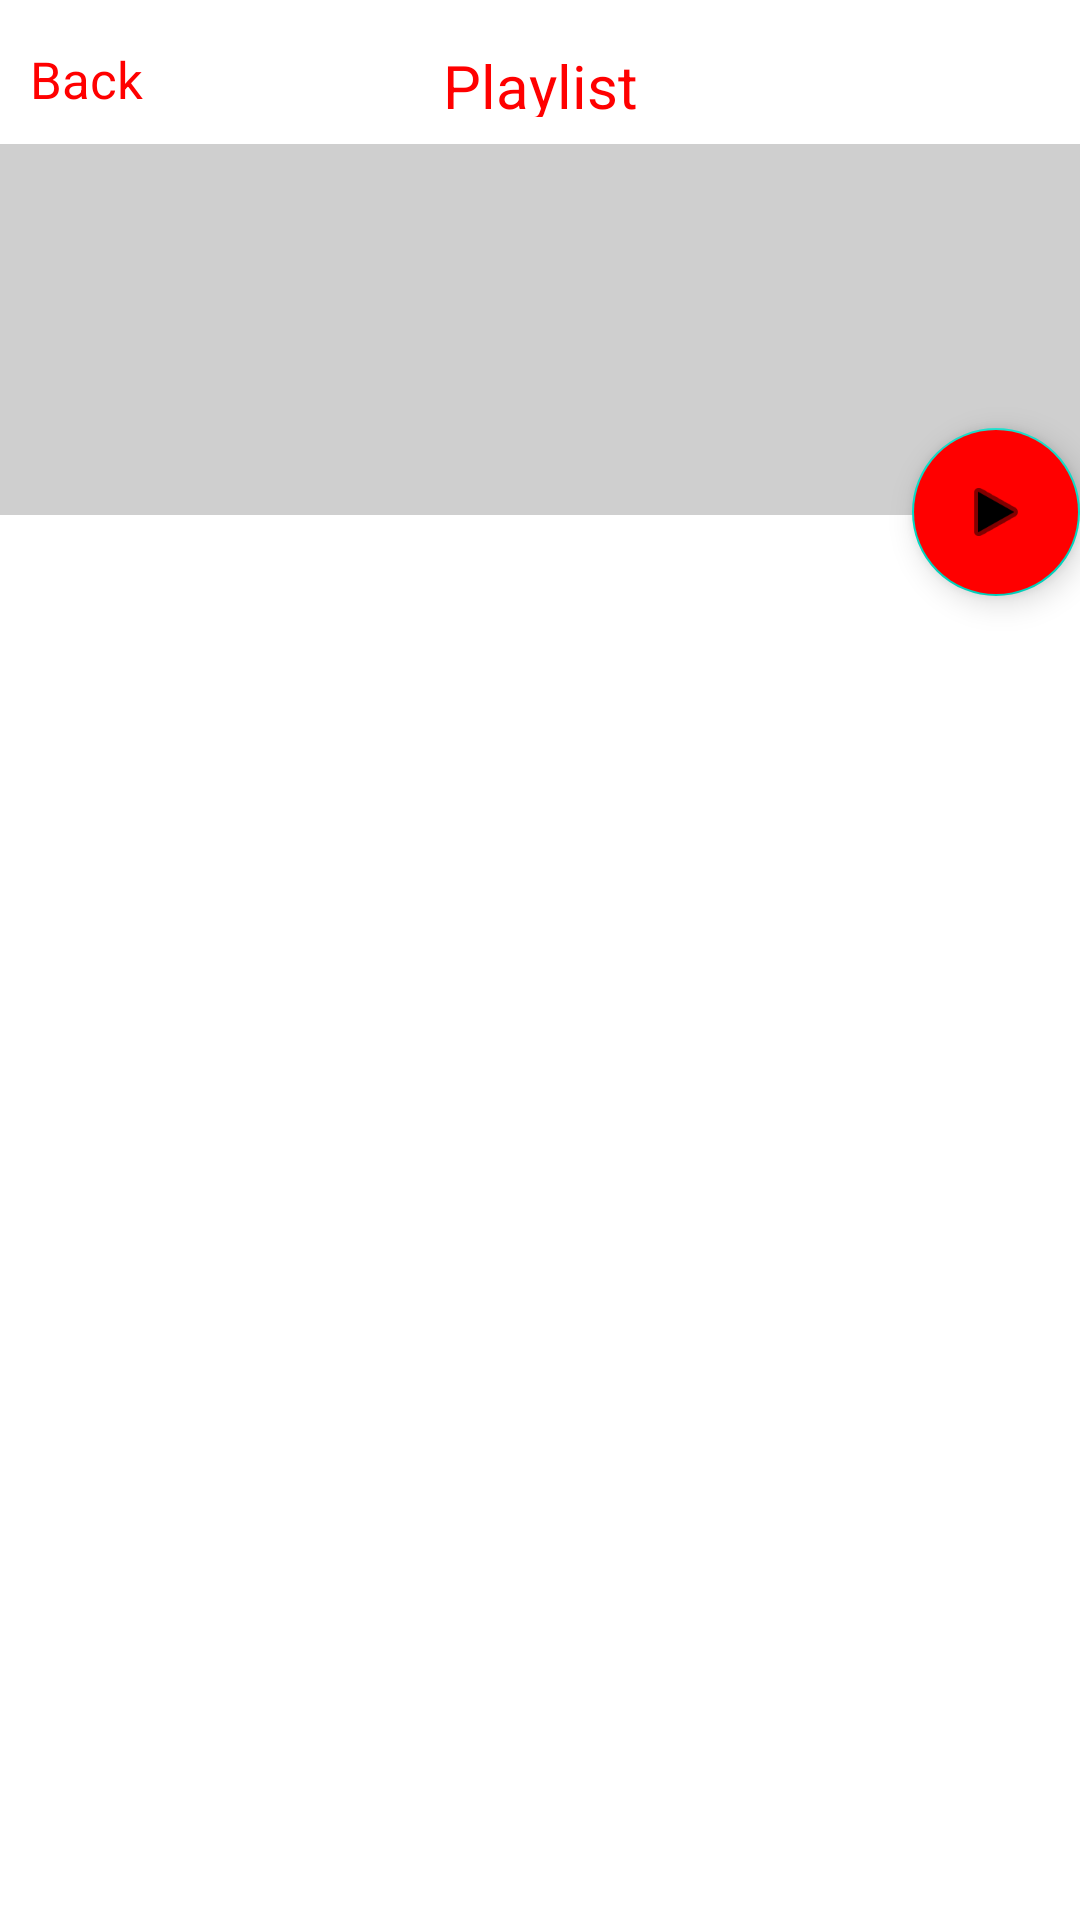

Point at icon controls on the screen. Image size 1080px×1920px, points as [x,y].
play: [996,512]
